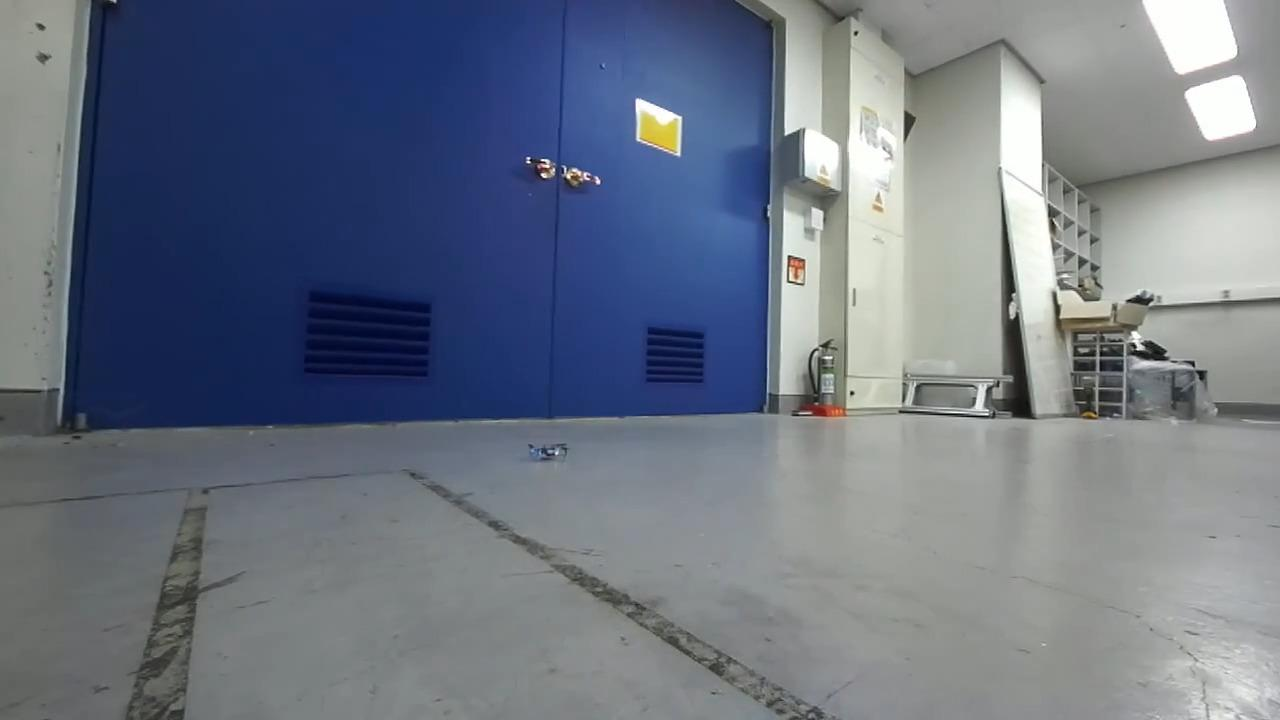crazyflie: (519, 436, 574, 466)
